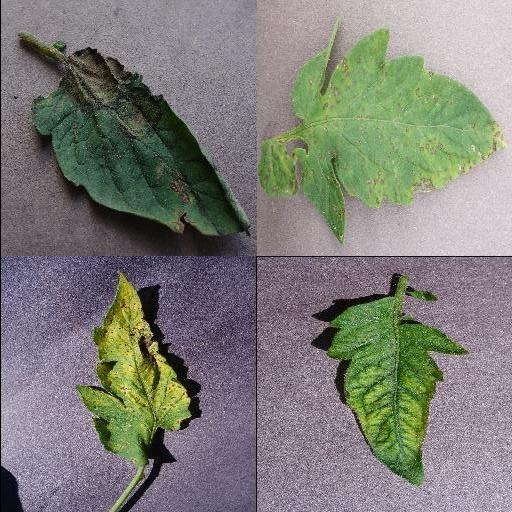Late Blight: (29, 49, 251, 239)
Mosaic Virus: (324, 295, 468, 487)
Septoria: (288, 15, 504, 242), (80, 271, 192, 473)
